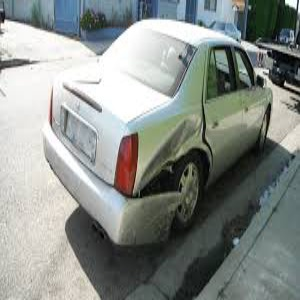bumper: (97, 185, 185, 250)
